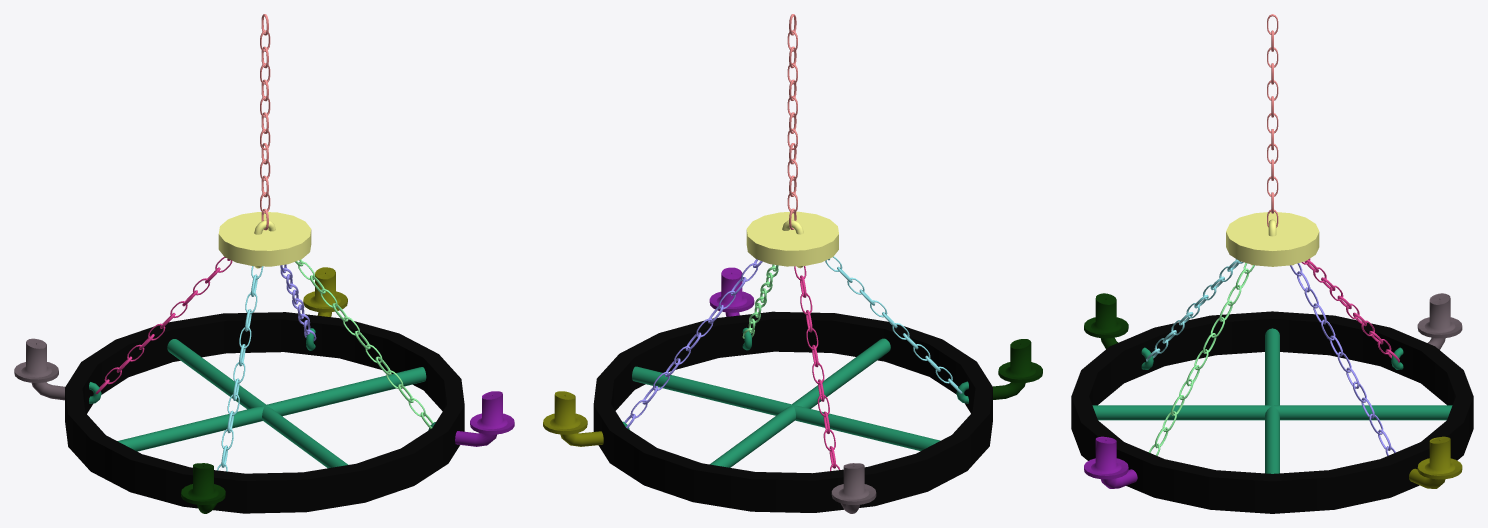
File: Chandalier hanging.FBX
3 renders of one model, left to right at view 1: azimuth 30°, elevation 25°; view 2: azimuth 150°, elevation 25°; view 3: azimuth 270°, elevation 25°, orthographic.
Parts seen in each view (by area): view 1: Bottom_ring, Top_ring, Candle03, Candle01, Candle02, Top_chain, Chain04, Candle04, Chain03, Chain02, Chain01; view 2: Bottom_ring, Top_ring, Candle04, Candle02, Candle01, Top_chain, Chain01, Candle03, Chain02, Chain03, Chain04; view 3: Bottom_ring, Top_ring, Candle03, Candle04, Candle01, Candle02, Chain01, Chain04, Top_chain, Chain02, Chain03.
Boxes of the visible parts, x1,y1,x2,y2 form: Bottom_ring: (65, 312, 464, 513); Top_ring: (218, 212, 311, 268); Candle03: (455, 391, 514, 446); Candle01: (14, 338, 64, 400); Candle02: (181, 463, 225, 513); Top_chain: (260, 14, 270, 230); Chain04: (295, 259, 433, 428); Candle04: (303, 267, 347, 316); Chain03: (217, 266, 263, 471); Chain02: (95, 257, 232, 394); Chain01: (280, 264, 316, 340); Bottom_ring: (593, 311, 992, 512); Top_ring: (746, 211, 838, 268); Candle04: (543, 391, 603, 446); Candle02: (993, 339, 1042, 399); Candle01: (831, 463, 876, 513); Top_chain: (787, 14, 797, 229); Chain01: (624, 259, 762, 428); Candle03: (709, 267, 754, 316); Chain02: (794, 266, 840, 470); Chain03: (825, 256, 962, 393); Chain04: (742, 264, 778, 338); Bottom_ring: (1071, 311, 1473, 513); Top_ring: (1226, 212, 1319, 266); Candle03: (1084, 436, 1137, 488); Candle04: (1409, 436, 1462, 488); Candle01: (1417, 293, 1462, 349); Candle02: (1084, 293, 1128, 348); Chain01: (1290, 263, 1395, 455); Chain04: (1149, 263, 1254, 455); Top_chain: (1267, 14, 1278, 227); Chain02: (1301, 258, 1399, 362); Chain03: (1146, 259, 1243, 361).
Bounding box in the file's own units: 1293 × 1473 × 1293.
